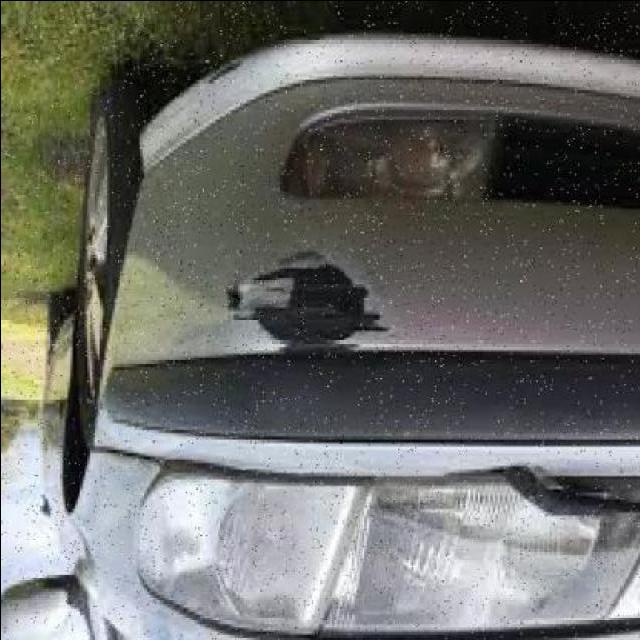front-bumper-dent: (91, 53, 640, 357)
